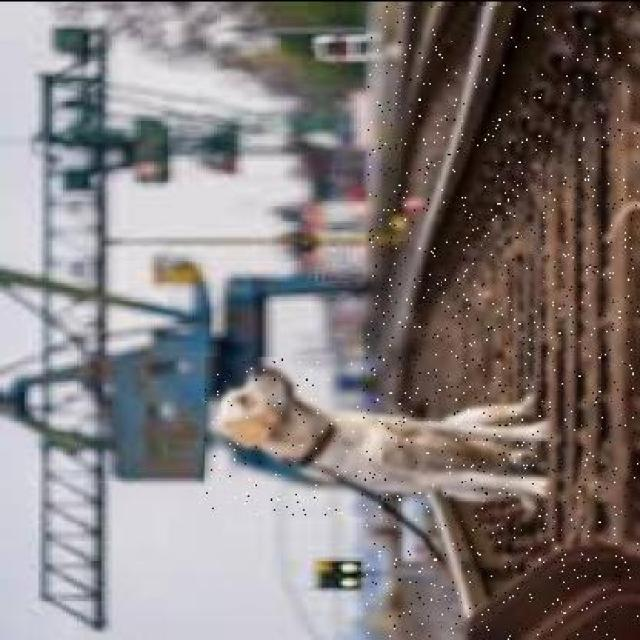danger: (205, 356, 558, 514)
rail: (367, 5, 638, 638)
